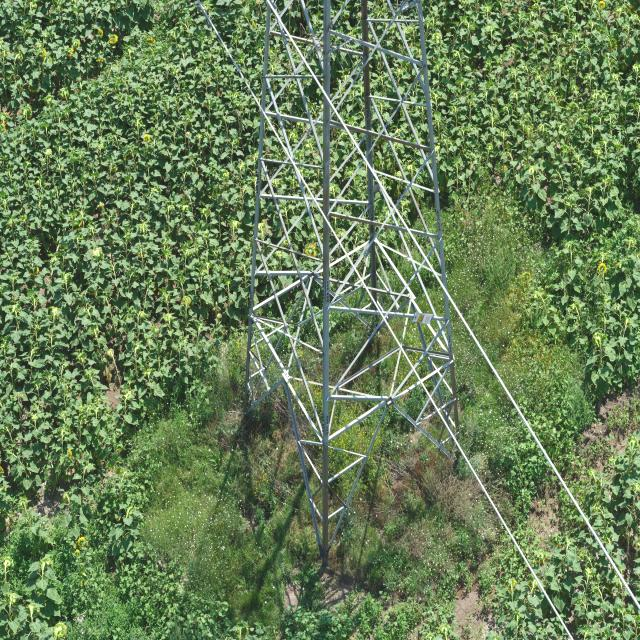voltage_line: (236, 9, 463, 566)
